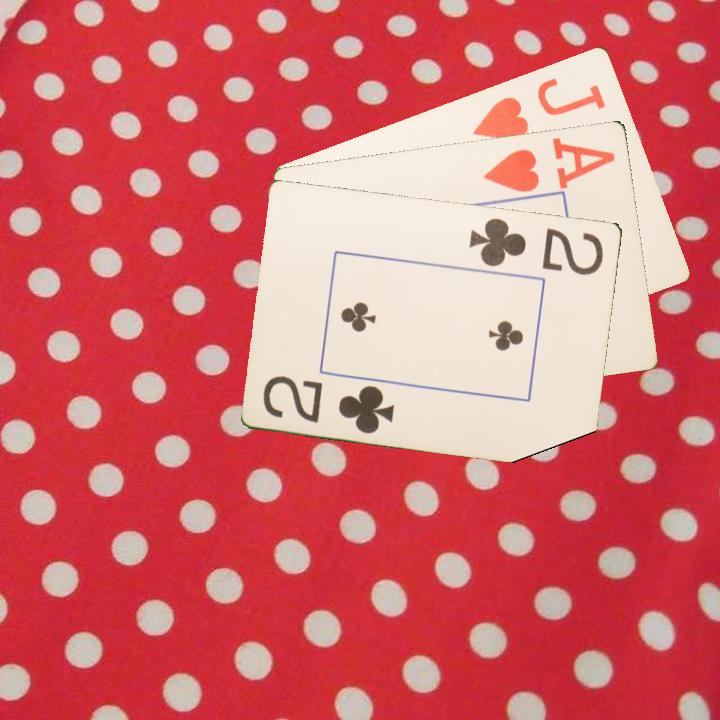2c: (259, 371, 398, 437), (466, 214, 607, 278)
Ah: (480, 133, 619, 195)
Jh: (469, 73, 609, 143)
